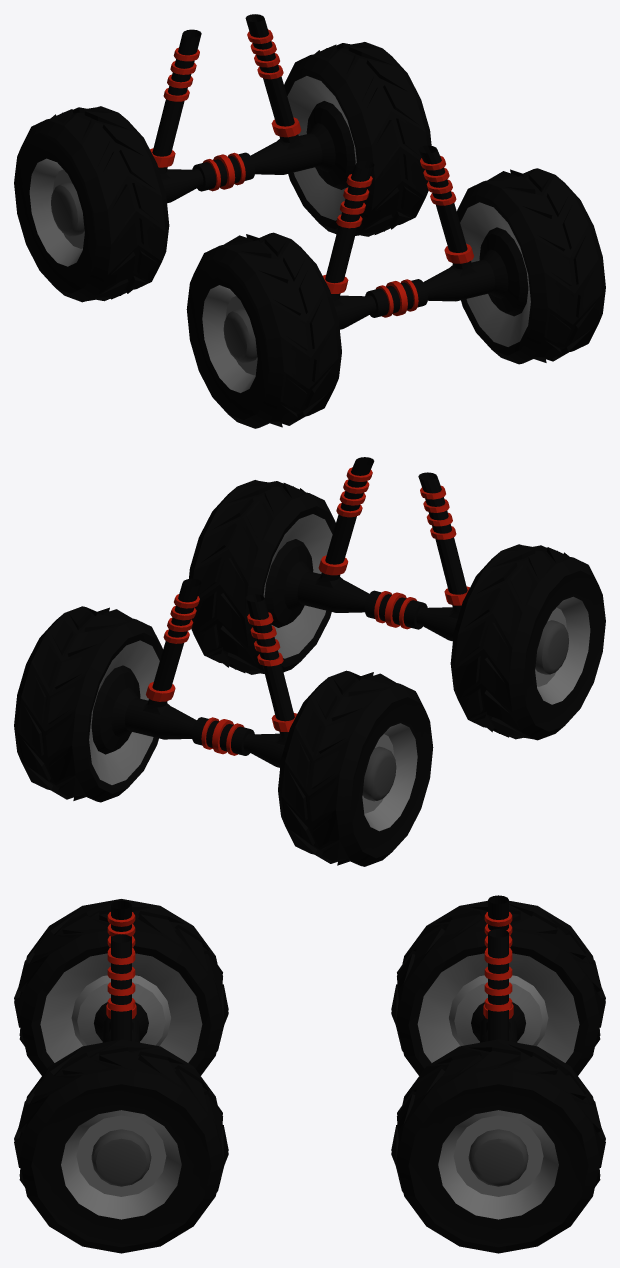
File: wheels (2).fbx
3 views of the same model, one above another, from view 1: azimuth 30°, elevation 25°; view 2: azimuth 150°, elevation 25°; view 3: azimuth 270°, elevation 25° (orthographic). The views are drawn at different scales.
Visible parts, largest first — view 1: Circle.001, Circle, Circle.004, Circle.005, Circle.003, Circle.002; view 2: Circle, Circle.001, Circle.005, Circle.004, Circle.003, Circle.002; view 3: Circle.004, Circle.005, Circle, Circle.001, Circle.003, Circle.002.
Boxes of the visible parts, bbox=[...] form: Circle.001: bbox=[14, 106, 232, 302]; Circle: bbox=[186, 232, 404, 428]; Circle.004: bbox=[393, 168, 605, 364]; Circle.005: bbox=[221, 42, 431, 236]; Circle.003: bbox=[150, 14, 301, 167]; Circle.002: bbox=[323, 145, 473, 293]; Circle: bbox=[387, 544, 605, 740]; Circle.001: bbox=[215, 670, 433, 866]; Circle.005: bbox=[14, 606, 226, 802]; Circle.004: bbox=[189, 480, 399, 674]; Circle.003: bbox=[146, 578, 296, 731]; Circle.002: bbox=[318, 457, 469, 605]; Circle.004: bbox=[14, 1039, 228, 1253]; Circle.005: bbox=[391, 1039, 605, 1253]; Circle: bbox=[14, 899, 228, 1075]; Circle.001: bbox=[391, 900, 605, 1075]; Circle.003: bbox=[483, 895, 513, 1041]; Circle.002: bbox=[106, 900, 136, 1041].
Bounding box in the file's own units: 341 × 228 × 475.
Materials: 1 (1 with a texture image).
